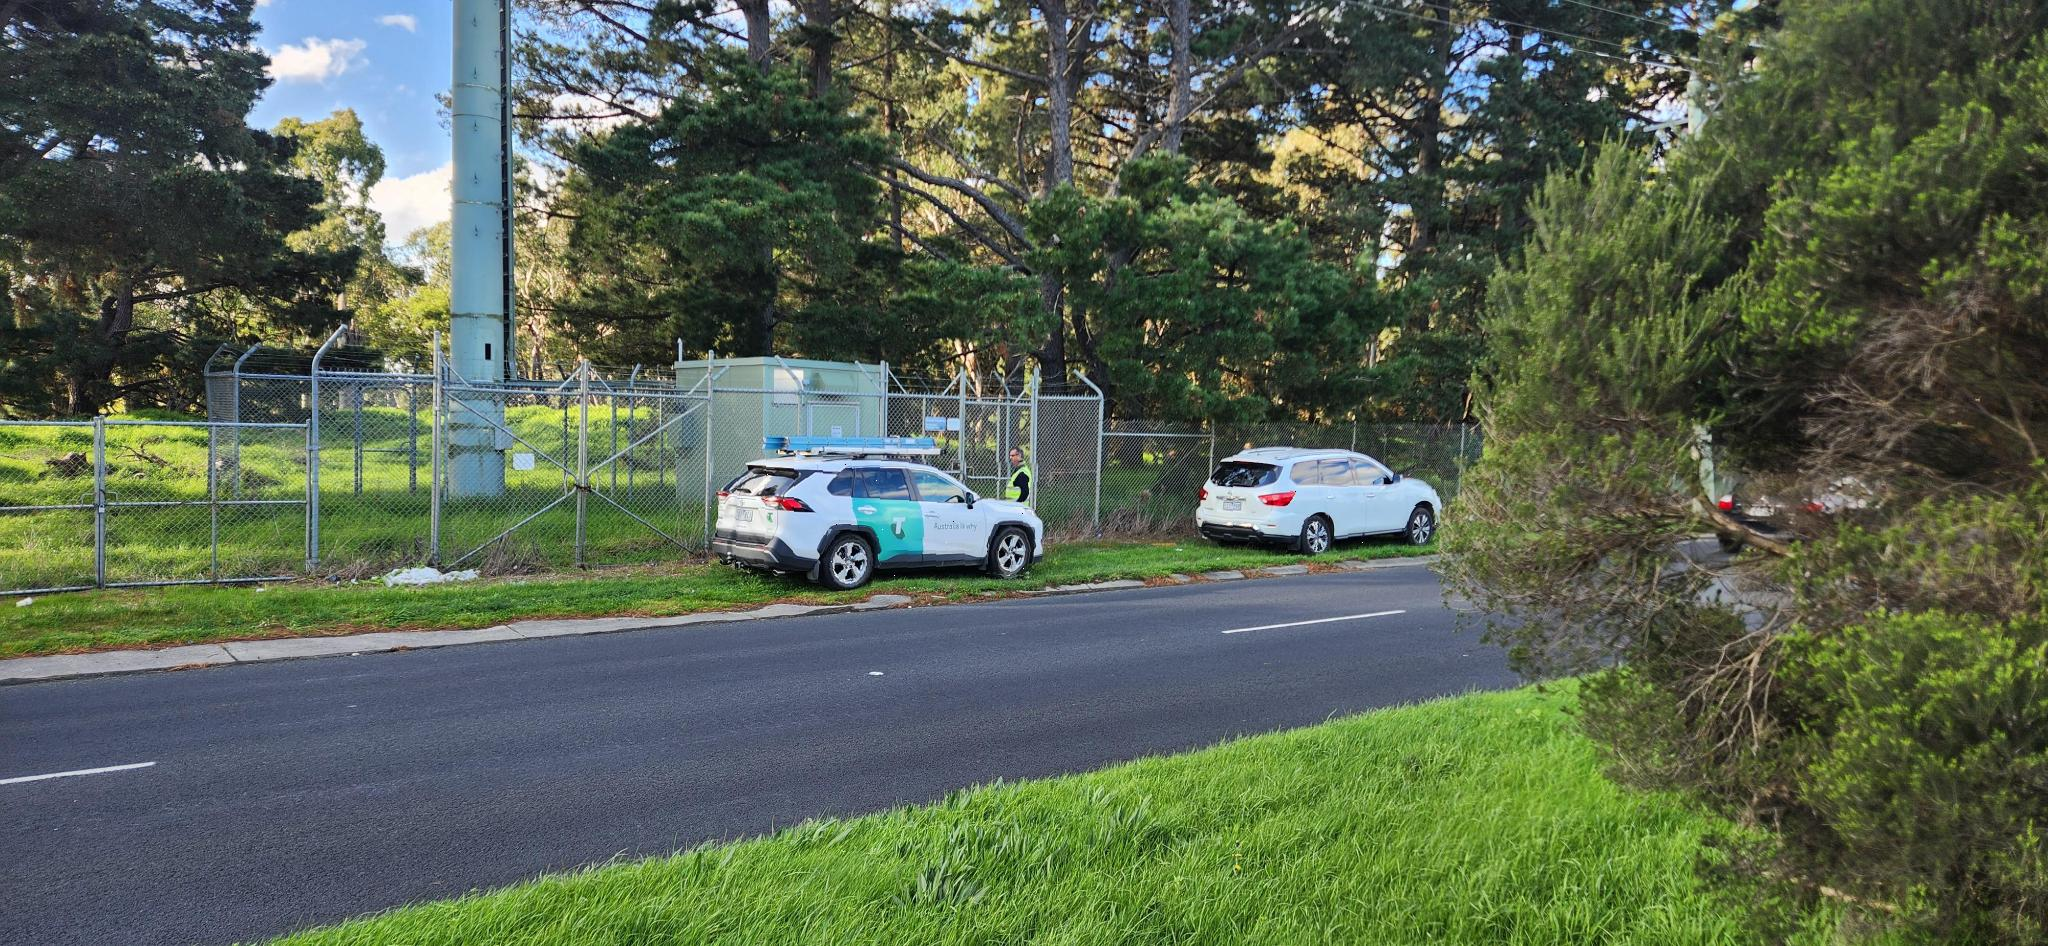vehicle type 1: (711, 456, 1050, 591), (1195, 446, 1445, 551)
wheel: (822, 532, 878, 592), (987, 527, 1036, 578), (1302, 516, 1336, 558), (1409, 507, 1437, 547)
